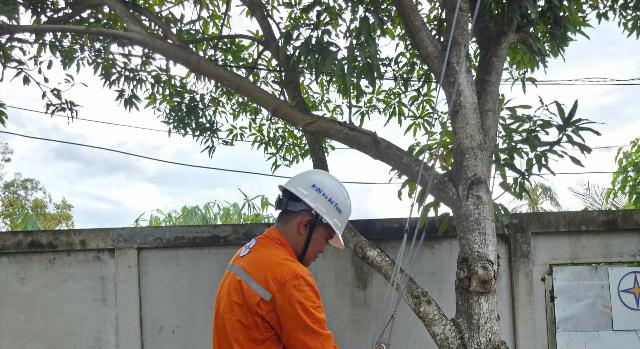helmet: (273, 159, 357, 253)
